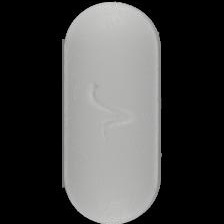50090-0175: (0, 0, 224, 224)
